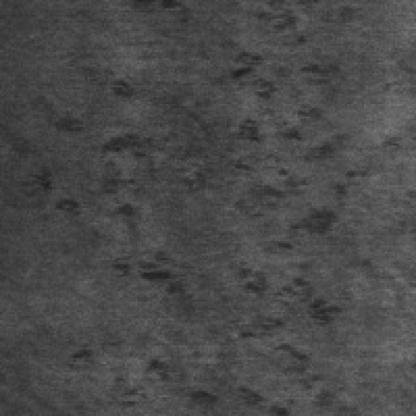rolled-in_scale: (204, 2, 368, 248), (212, 164, 364, 410), (50, 60, 171, 281)
